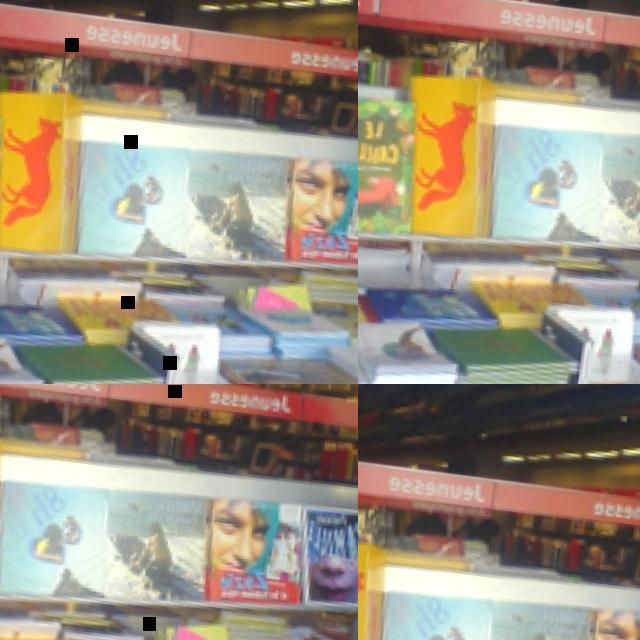helmet: (0, 0, 260, 384), (0, 0, 106, 83), (302, 10, 358, 77), (234, 64, 258, 94)
